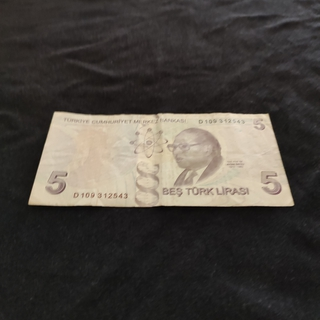5TLBack: (26, 109, 296, 208)
